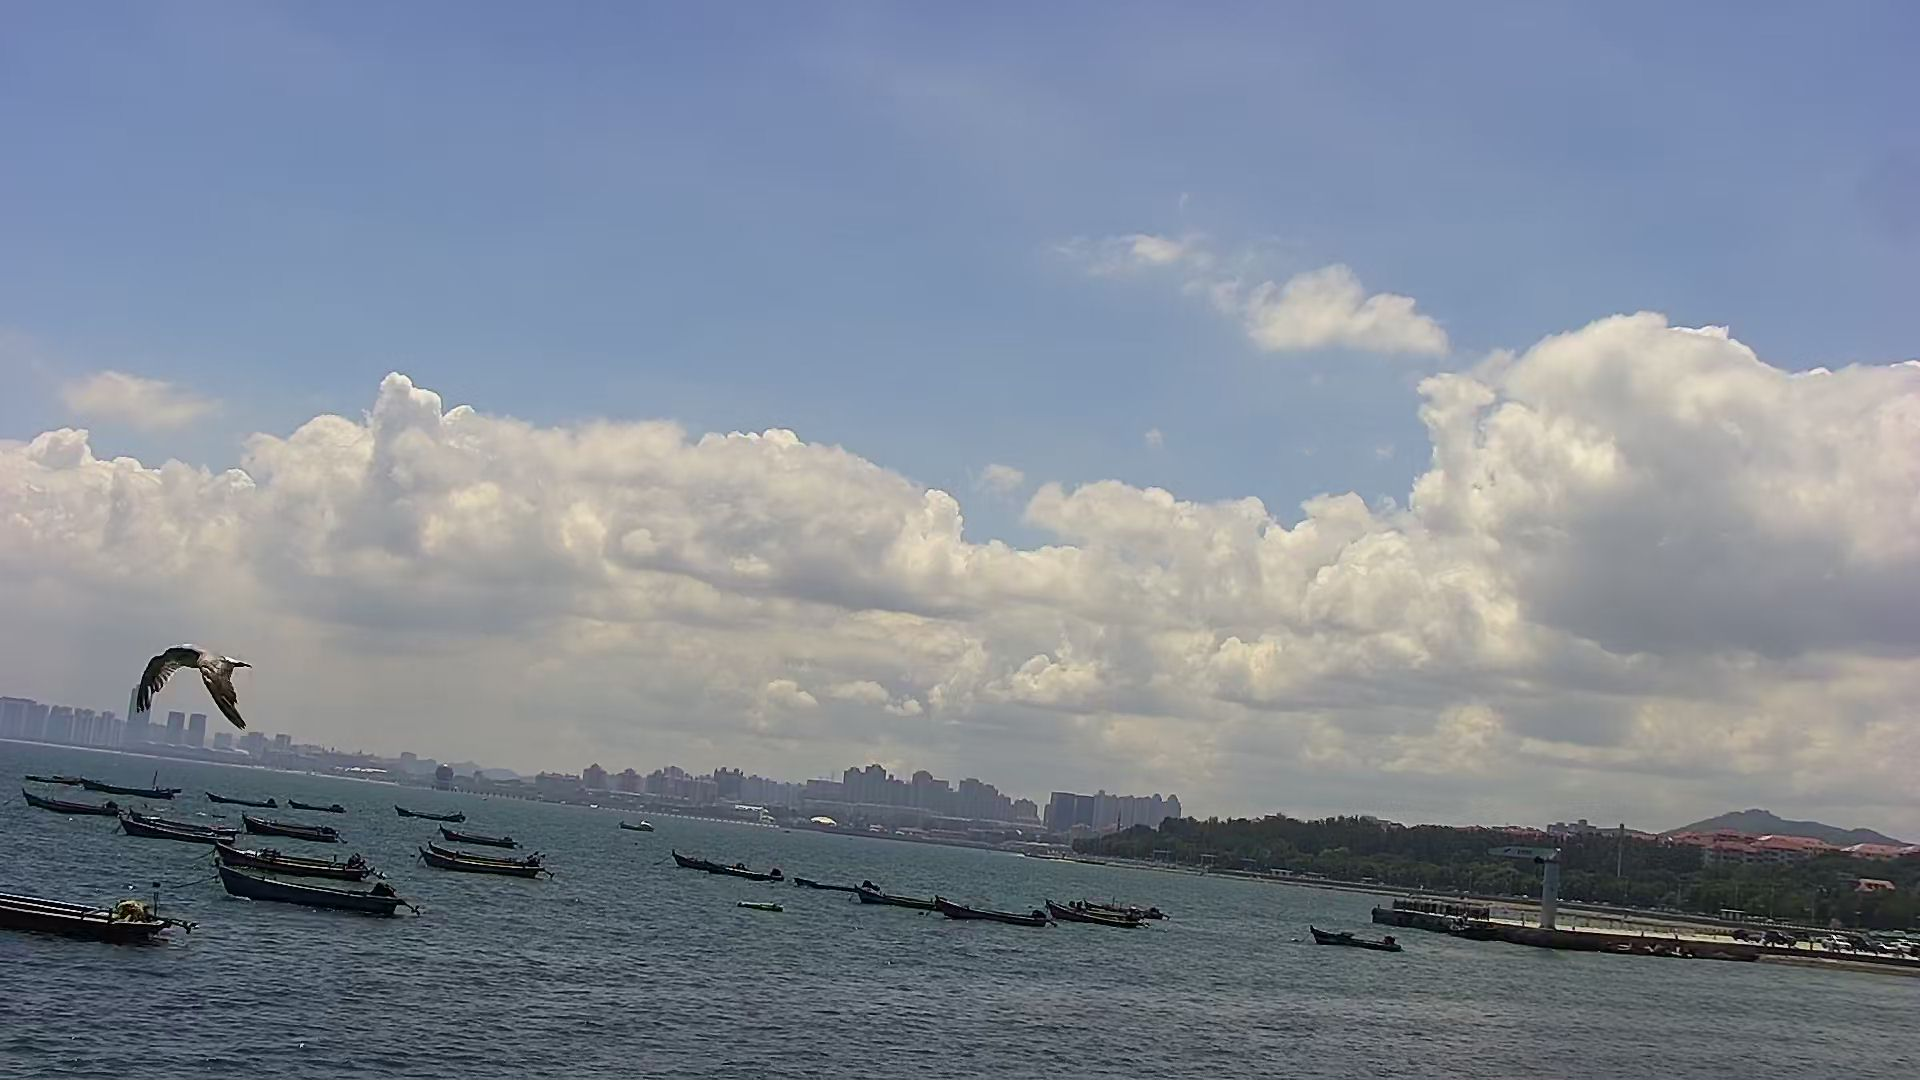boat: (1, 876, 211, 968), (204, 858, 433, 924), (417, 833, 554, 884), (927, 891, 1055, 934), (225, 803, 348, 847), (1040, 887, 1146, 938), (1296, 922, 1411, 967), (852, 878, 951, 927), (120, 808, 237, 847), (79, 765, 182, 803), (426, 818, 539, 852), (17, 785, 123, 819), (663, 840, 761, 876), (1076, 887, 1180, 919), (385, 793, 480, 827), (786, 862, 876, 897), (727, 895, 796, 928), (202, 781, 282, 808), (724, 858, 790, 887), (286, 791, 360, 815), (609, 814, 667, 840), (15, 762, 76, 785)
harbor: (1371, 855, 1920, 973)
